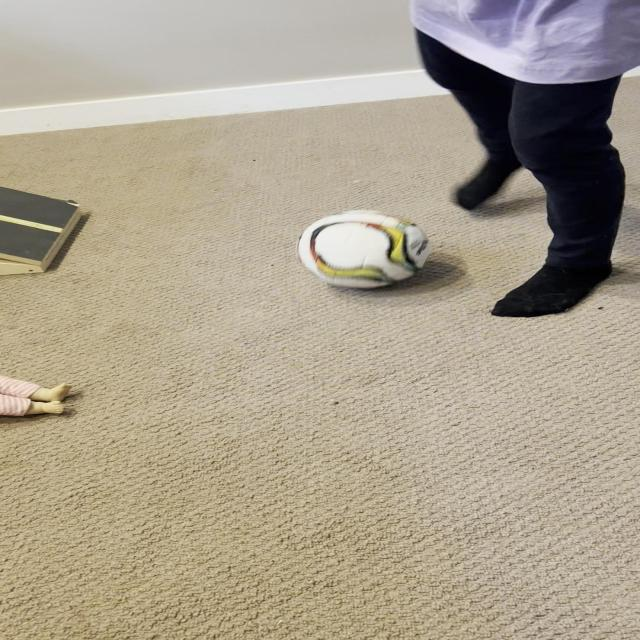Soccer Ball: (296, 208, 432, 290)
